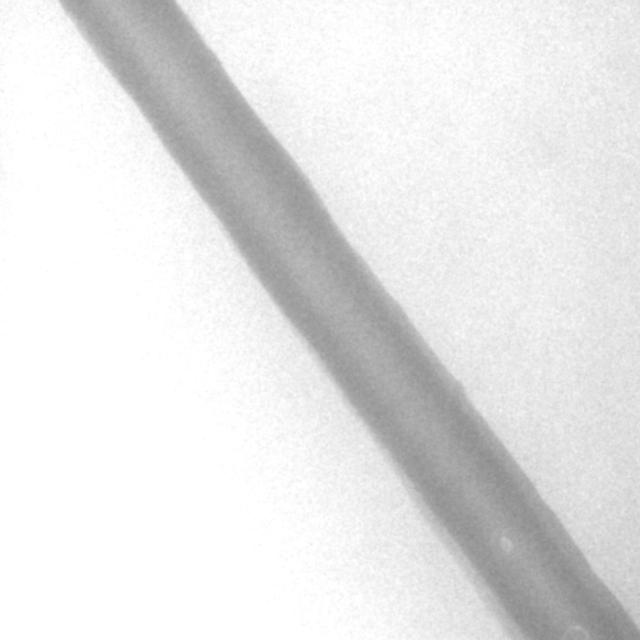air-hole: (499, 533, 515, 560)
